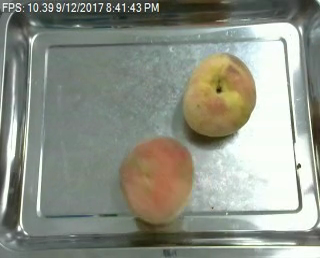Peach: (119, 135, 193, 224), (180, 51, 256, 137)
